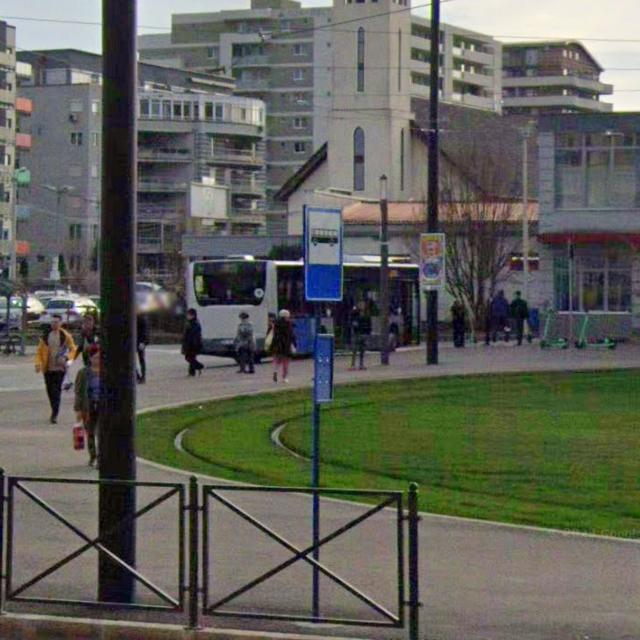info_bus_station: (302, 203, 343, 301)
